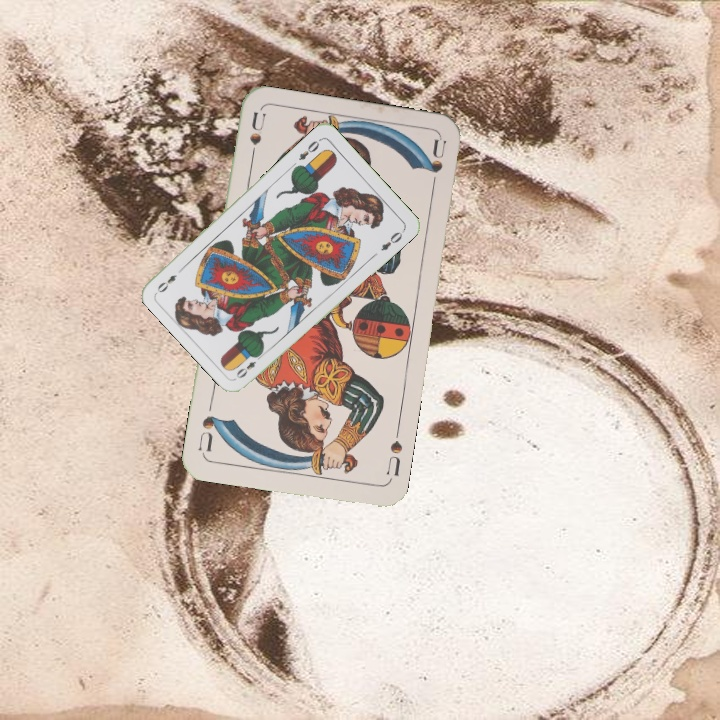EO: (232, 349, 266, 381), (294, 134, 324, 163)
SU: (245, 109, 269, 169), (382, 436, 405, 483)
